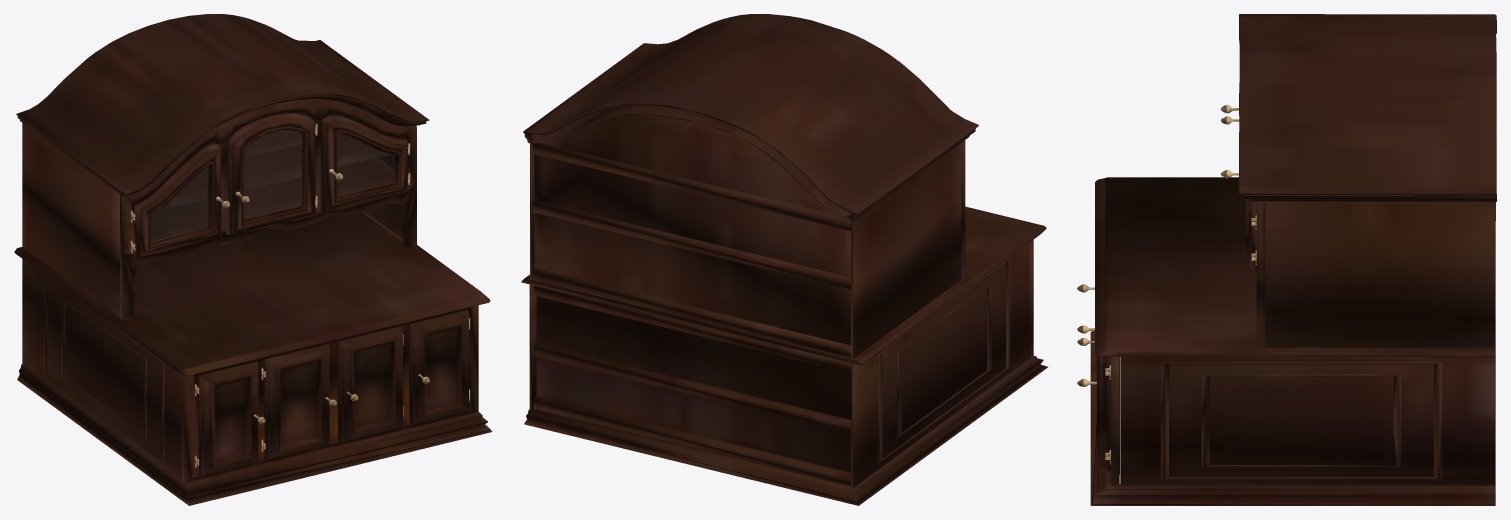
File: ph-vintage-cabinet-01.glb
The picture shows the model from 3 angles, left to right: view 1: azimuth 30°, elevation 25°; view 2: azimuth 150°, elevation 25°; view 3: azimuth 270°, elevation 25°; orthographic projection. The views are drawn at different scales.
Visible parts, largest first — view 1: vintage_cabinet_01_body, vintage_cabinet_01_door_01; view 2: vintage_cabinet_01_body; view 3: vintage_cabinet_01_body.
Boxes of the visible parts, box(x1,y1,x2,y2) form: vintage_cabinet_01_body: box(14, 14, 492, 505); vintage_cabinet_01_door_01: box(152, 130, 394, 241); vintage_cabinet_01_body: box(521, 14, 1047, 505); vintage_cabinet_01_body: box(1077, 14, 1496, 505).
Bounding box in the file's own units: 0.9993 × 0.9998 × 1.
Materials: 3 (2 with a texture image).
